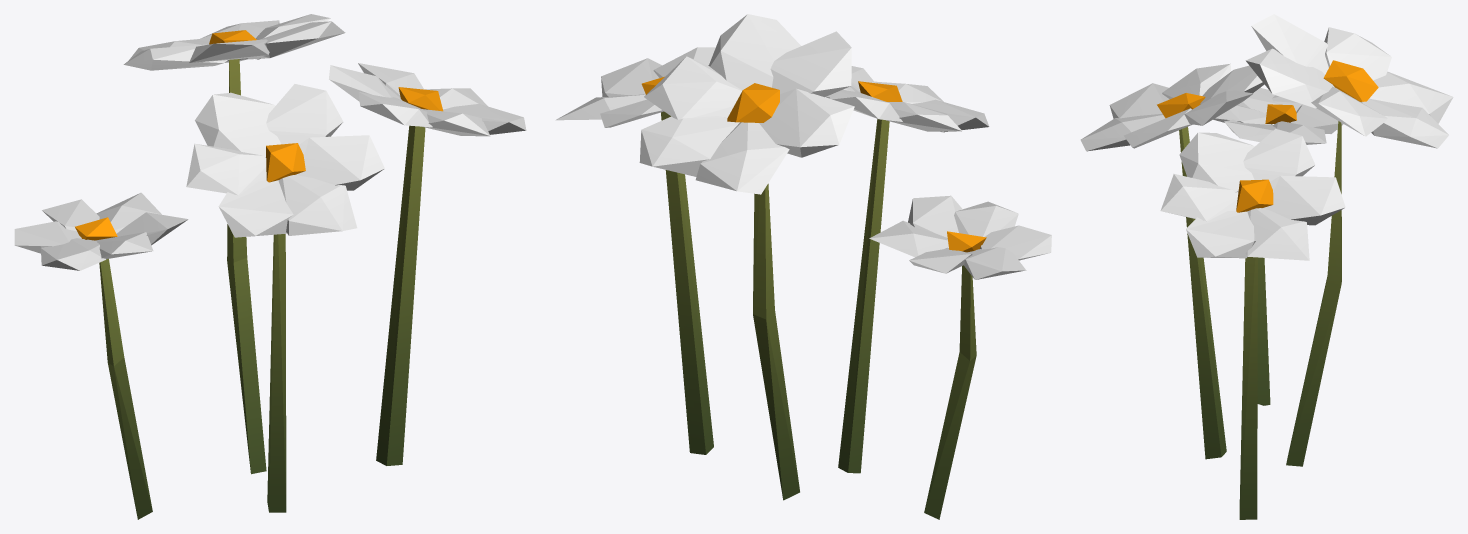
File: Summer_Flower_08.glb
3 views of the same model, side by side, from view 1: azimuth 30°, elevation 25°; view 2: azimuth 150°, elevation 25°; view 3: azimuth 270°, elevation 25° (orthographic). The views are drawn at different scales.
Visible parts, largest first — view 1: Summer_Flower_08_LOD0; view 2: Summer_Flower_08_LOD0; view 3: Summer_Flower_08_LOD0.
Boxes of the visible parts, <box> form: Summer_Flower_08_LOD0: <box>14,14,526,519</box>; Summer_Flower_08_LOD0: <box>555,14,1051,519</box>; Summer_Flower_08_LOD0: <box>1080,14,1453,519</box>.
Size of what is drawn, in the model's own units: 0.3158 by 0.2938 by 0.2308.
Materials: 1 (1 with a texture image).
